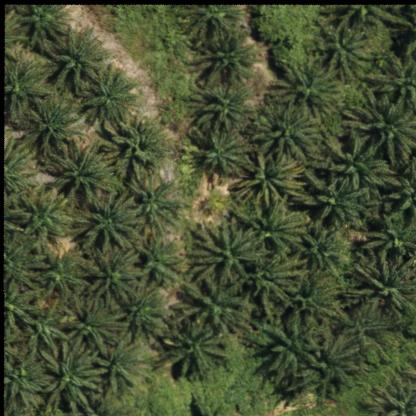Palm Oil: (45, 137, 126, 210), (189, 216, 273, 286), (40, 21, 114, 95), (37, 339, 108, 416), (239, 248, 310, 322), (168, 276, 252, 338), (262, 313, 328, 391), (343, 251, 415, 322), (324, 134, 403, 198), (270, 58, 350, 120), (98, 116, 174, 180), (252, 100, 328, 164), (183, 29, 264, 89), (239, 188, 312, 254), (22, 95, 92, 163), (232, 150, 308, 211), (74, 60, 140, 130), (312, 16, 378, 85), (75, 192, 146, 254), (158, 320, 230, 381), (62, 294, 130, 358), (121, 173, 190, 235), (305, 171, 375, 231), (12, 182, 74, 245), (192, 128, 260, 185), (85, 246, 145, 308), (310, 327, 362, 394), (193, 81, 256, 135), (119, 284, 175, 344), (20, 296, 73, 358), (130, 235, 186, 292), (96, 340, 155, 394), (35, 246, 93, 299), (300, 227, 344, 280)
